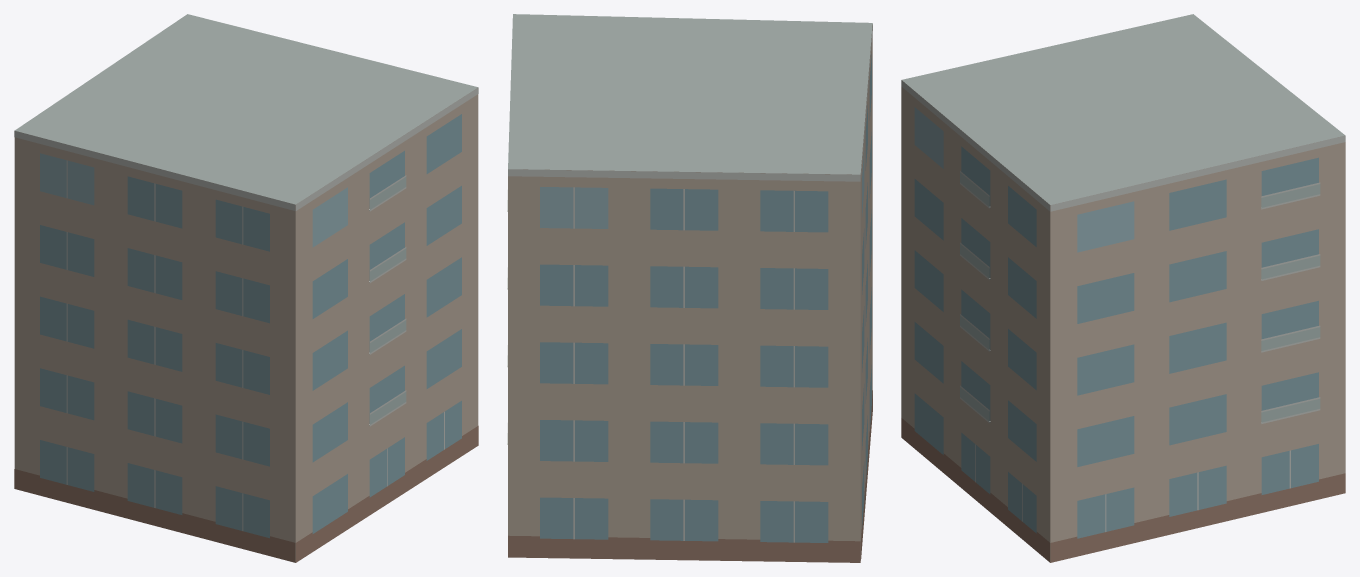
Rendered from survey-upis-32841638.glb.
The picture shows the model from 3 angles, left to right: view 1: azimuth 30°, elevation 25°; view 2: azimuth 150°, elevation 25°; view 3: azimuth 270°, elevation 25°; orthographic projection. The views are drawn at different scales.
Parts seen in each view (by area): view 1: survey-upis-32841638.tmp; view 2: survey-upis-32841638.tmp; view 3: survey-upis-32841638.tmp.
Part boxes in pixels (bbox=[...]): survey-upis-32841638.tmp: bbox=[14, 14, 478, 562]; survey-upis-32841638.tmp: bbox=[507, 14, 872, 562]; survey-upis-32841638.tmp: bbox=[901, 14, 1345, 562].
Bounding box in the file's own units: 15.23 × 13.28 × 14.95.
